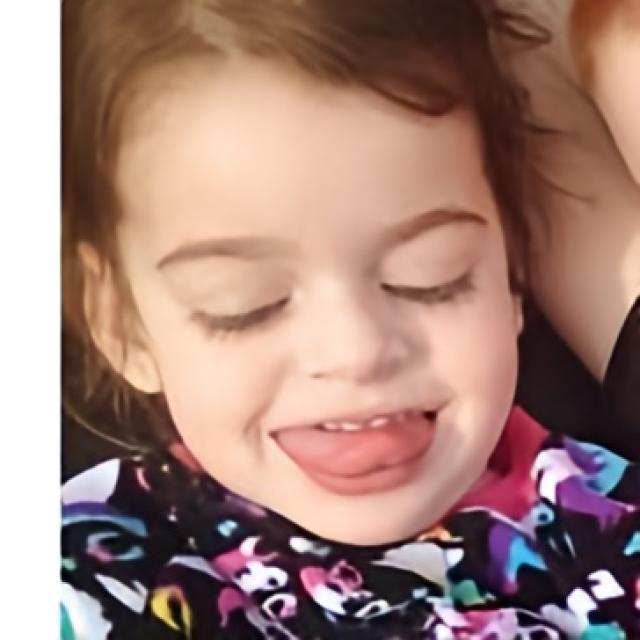happy: (134, 63, 514, 550)
